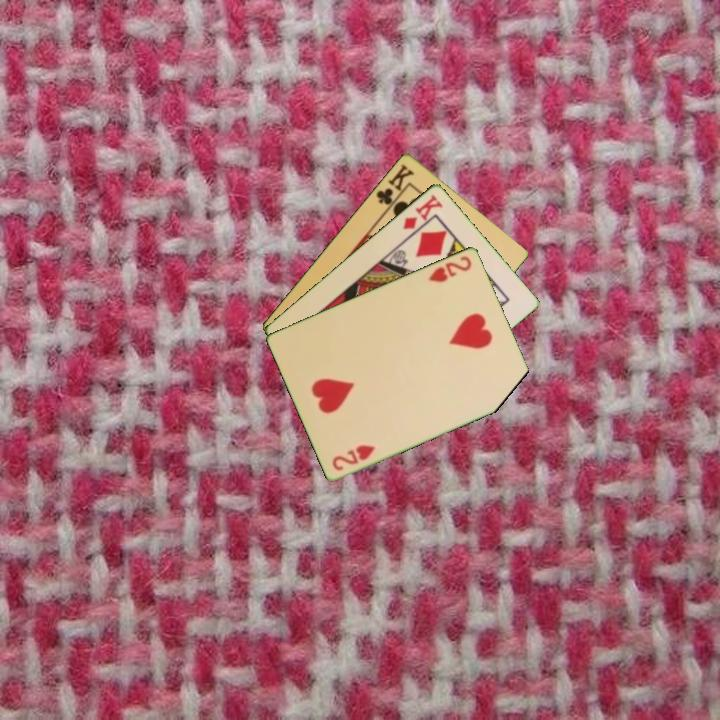2h: (425, 252, 475, 285), (329, 441, 378, 473)
Kc: (372, 160, 417, 213)
Kd: (399, 190, 446, 232)
